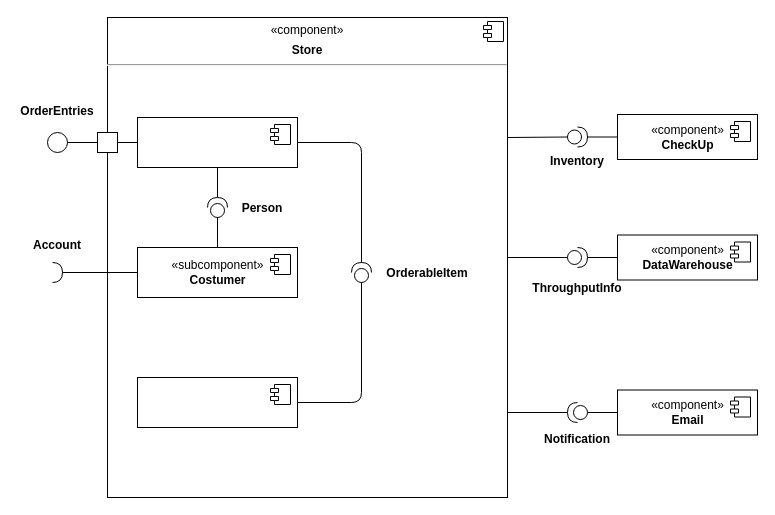
This 775x515 diagram has some shape labels left out. The shapes that lost their labels are listed below. From the top down, each one's centre as x and y in pixels, then its label:
(217,142): «subcomponent» Order
(217,402): «subcomponent» Product
